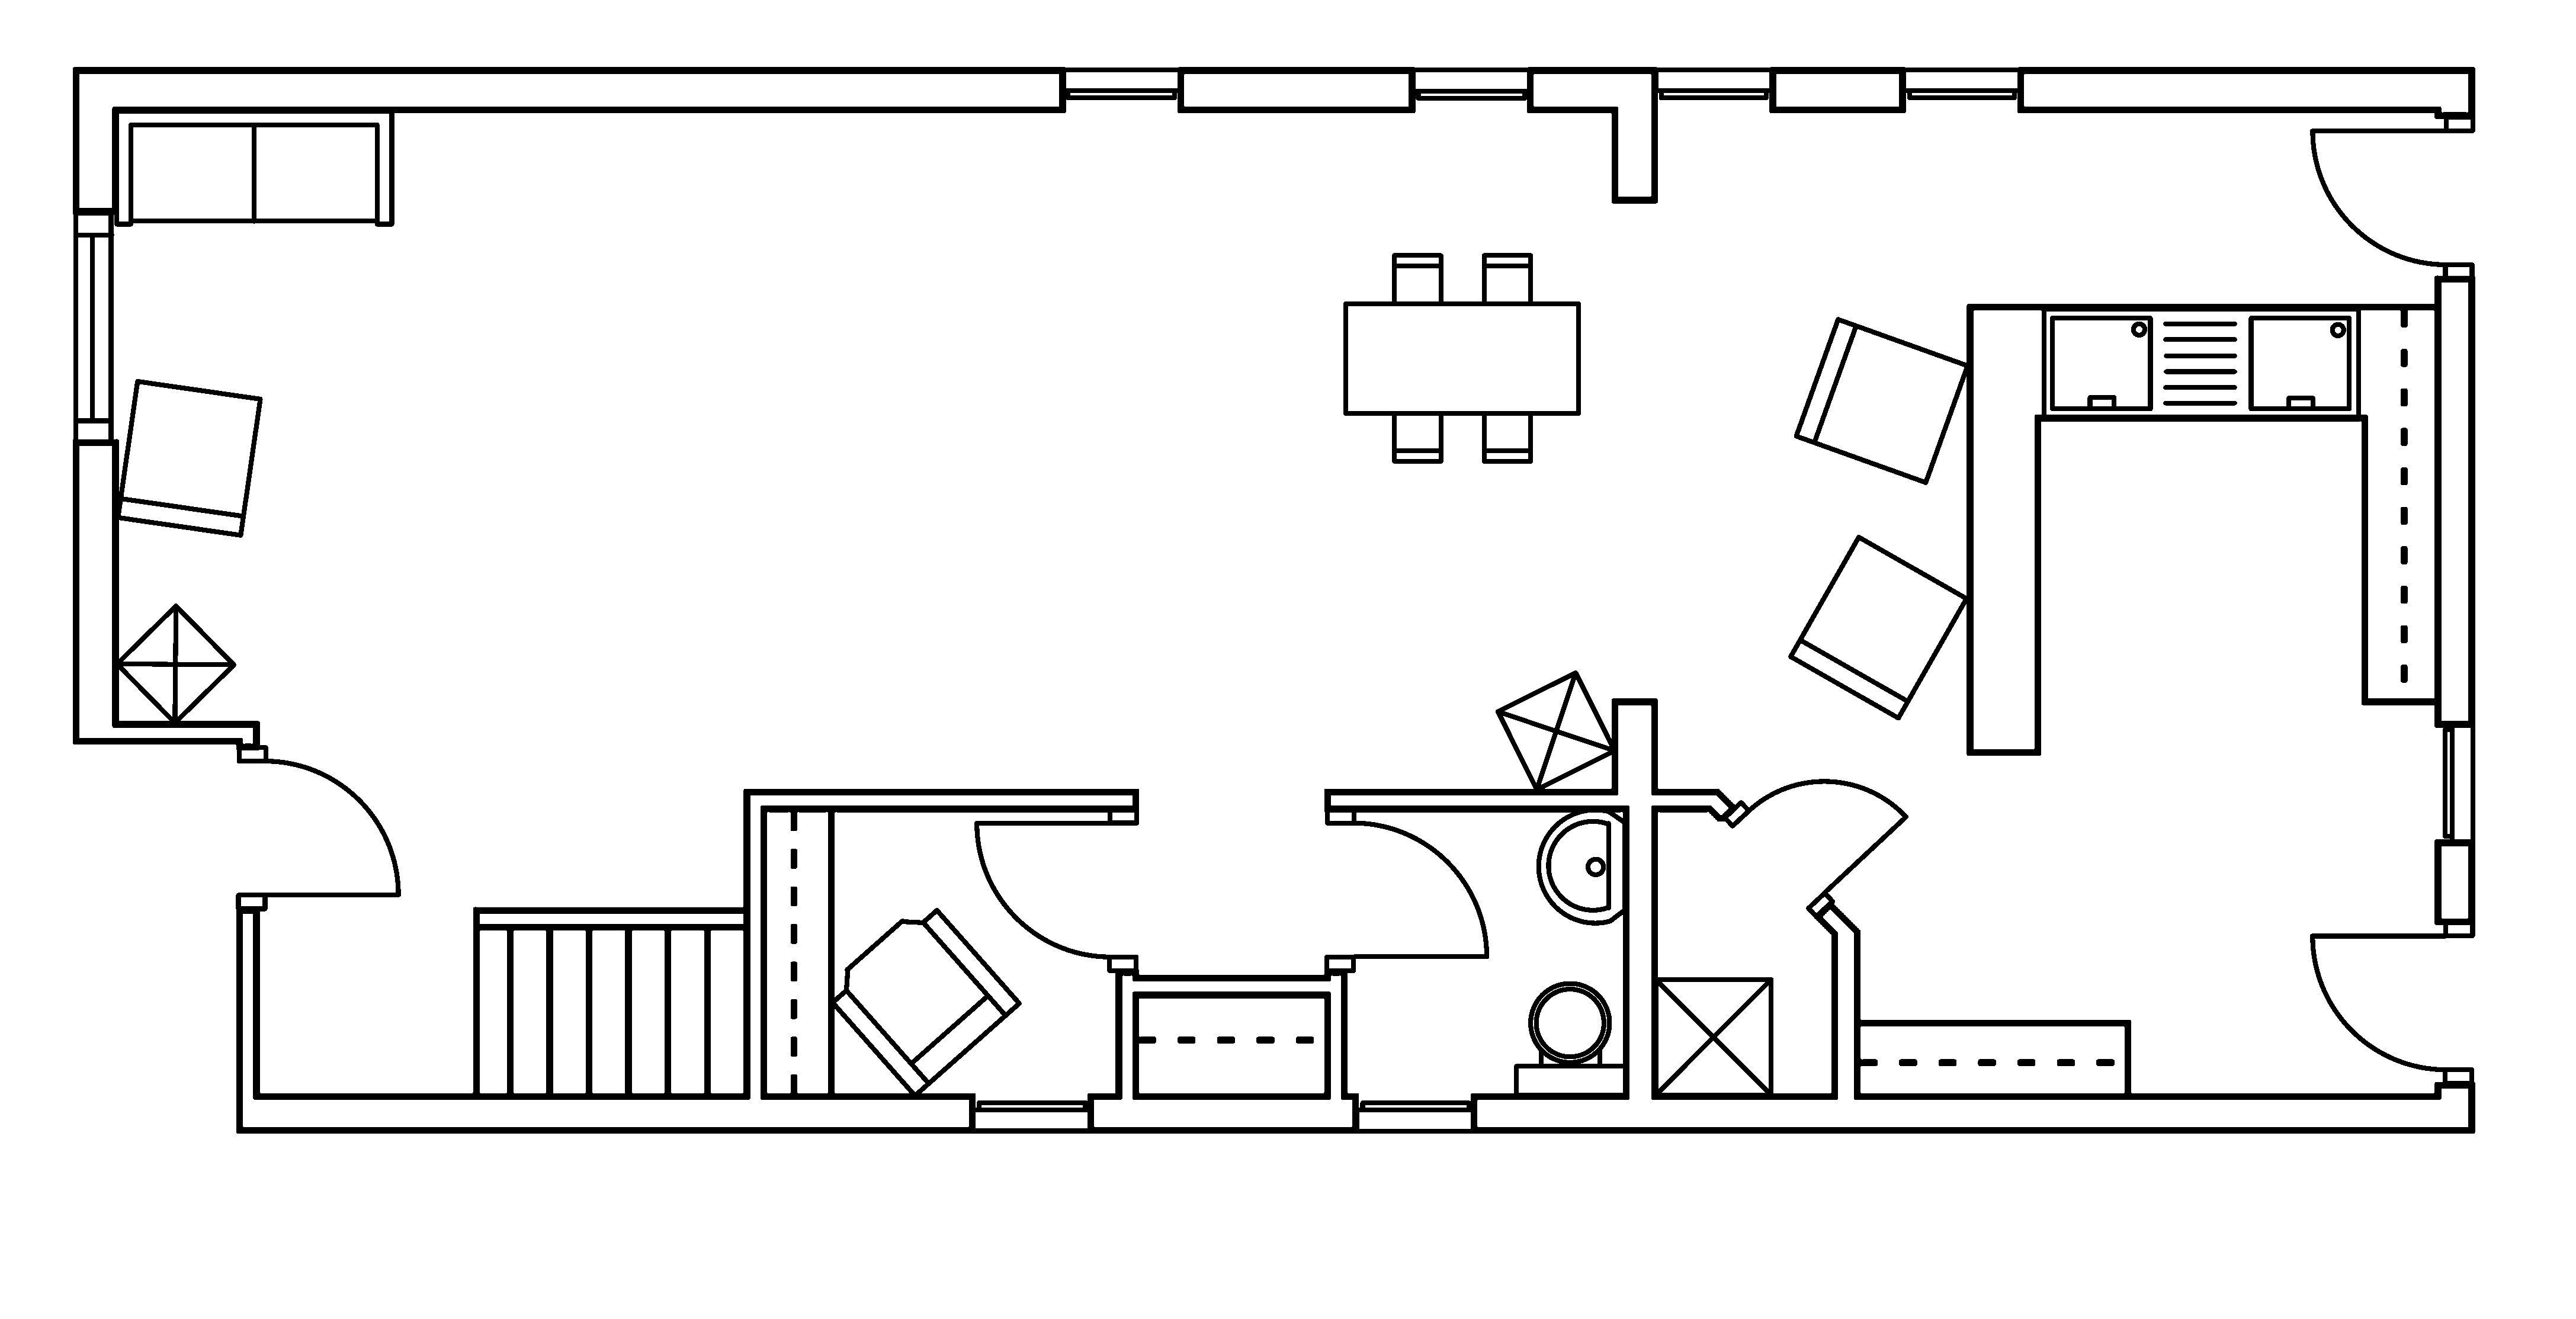armchair: (829, 907, 1022, 1099)
coffee_table: (113, 602, 237, 725), (1493, 670, 1618, 792), (1651, 976, 1774, 1097)
dining_table: (1342, 252, 1581, 464)
large_sink: (1513, 981, 1628, 1097)
large_sofa: (113, 108, 395, 227)
small_sink: (1535, 808, 1628, 925)
small_sofa: (1787, 533, 1969, 720), (1792, 316, 1971, 485), (114, 379, 262, 538)
twin_sink: (2040, 305, 2361, 421)
